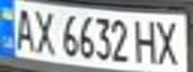2: (109, 15, 133, 64)
3: (93, 14, 115, 62)
6: (57, 11, 81, 57), (75, 12, 96, 61)
A: (9, 3, 39, 52)
H: (133, 16, 163, 65)
X: (154, 16, 184, 66), (30, 7, 57, 55)
